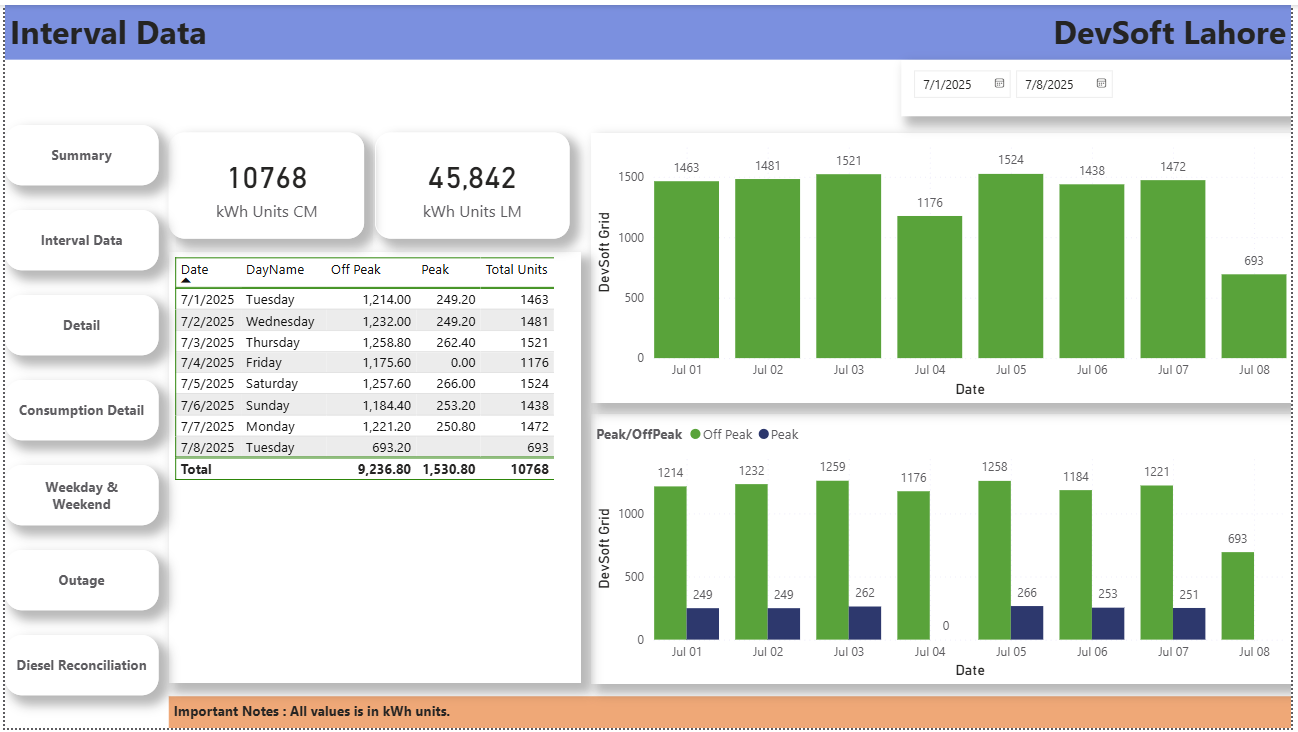

This screenshot's page, from the dashboard's own definition file:
{"tool":"powerbi","page":{"name":"DevSoft Lahore : Interval Data","canvas":[1280,720],"ordinal":1},"visuals":[{"type":"textbox","box":[0,0,1280,54.3],"z":0},{"type":"image","box":[0,0,269.9,54.3],"z":1000},{"type":"textbox","box":[269.9,1.4,346.4,52.9],"z":2000},{"type":"slicer","fields":{"Values":["Calendar.Date"]},"box":[891.8,54.3,388.2,55.7],"z":3000},{"type":"columnChart","fields":{"Category":["Transworld*_fact.Date","Transworld*_fact.Time"],"Y":["Key Measure.DevSoft Grid"]},"box":[583,126.6,697,268.5],"z":4000},{"type":"textbox","box":[162.8,687.3,1117.2,33.4],"z":5000},{"type":"card","fields":{"Values":["Key Measure.DevSoft Grid"]},"box":[162.8,126.6,194.8,105.7],"z":6000},{"type":"card","fields":{"Values":["Key Measure.kWh Units LM"]},"box":[368.7,126.6,193.4,105.7],"z":7000},{"type":"clusteredColumnChart","fields":{"Category":["Transworld*_fact.Date","Transworld*_fact.Time"],"Y":["Key Measure.DevSoft Grid"],"Series":["Transworld*_fact.Peak/OffPeak"]},"box":[583,406.3,697,268.5],"z":8000},{"type":"tableEx","fields":{"Values":["Transworld*_fact.Date","Transworld*_fact.DayName","Key Measure.Off Peak Units","Key Measure.Peak Units","Key Measure.DevSoft Grid"]},"box":[162.8,246.3,410.4,428.5],"z":9000},{"type":"actionButton","box":[0,119.7,153,59.8],"z":10000},{"type":"actionButton","box":[0,204.3,153,59.8],"z":11000},{"type":"actionButton","box":[0,288.9,153,59.8],"z":12000},{"type":"actionButton","box":[0,373.6,153,59.8],"z":13000},{"type":"actionButton","box":[0,458.2,153,59.8],"z":14000},{"type":"actionButton","box":[0,542.8,153,59.8],"z":15000},{"type":"actionButton","box":[0,627.5,153,59.8],"z":16000}]}

Visuals, with their boxes in screenshot pixels (x1, y1, x2, y2), scaled from the page's 1280x720 canvas onto the 1298x732 screenshot:
textbox: [0,0,1297,55]
image: [0,0,274,55]
textbox: [274,1,625,55]
slicer - Calendar.Date: [904,55,1297,112]
columnChart - Transworld*_fact.Date x Transworld*_fact.Time: [591,129,1297,402]
textbox: [165,699,1297,731]
card - Key Measure.DevSoft Grid: [165,129,363,236]
card - Key Measure.kWh Units LM: [374,129,570,236]
clusteredColumnChart - Transworld*_fact.Date x Transworld*_fact.Time: [591,413,1297,686]
tableEx - Transworld*_fact.Date x Transworld*_fact.DayName: [165,250,581,686]
actionButton: [0,122,155,182]
actionButton: [0,208,155,269]
actionButton: [0,294,155,355]
actionButton: [0,380,155,441]
actionButton: [0,466,155,527]
actionButton: [0,552,155,613]
actionButton: [0,638,155,699]
